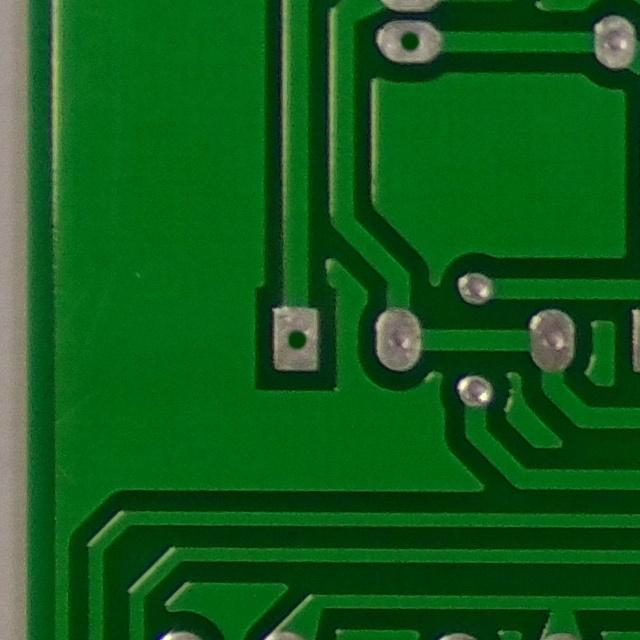missing_hole: (258, 295, 331, 384), (378, 15, 444, 77)
